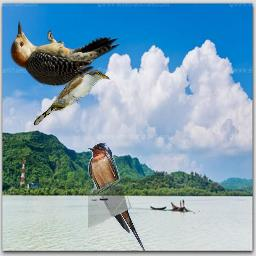Cuckoo: (32, 69, 111, 126)
Swallow: (88, 142, 145, 251)
Woodpecker: (1, 17, 126, 88)
